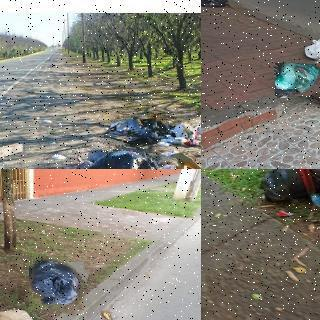Garbage: (26, 259, 87, 313), (78, 139, 173, 169), (261, 169, 320, 204), (274, 61, 320, 97), (201, 0, 237, 10), (305, 39, 320, 59), (313, 185, 320, 204)
